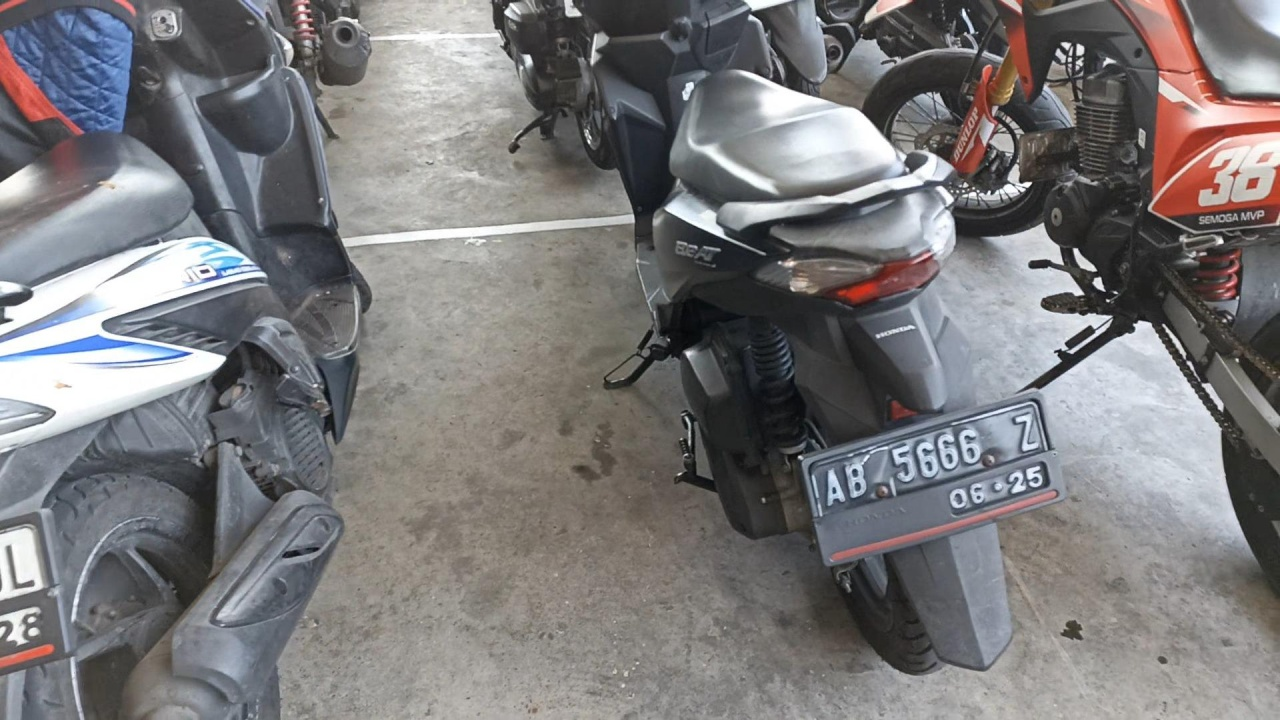plate: (809, 401, 1060, 563)
